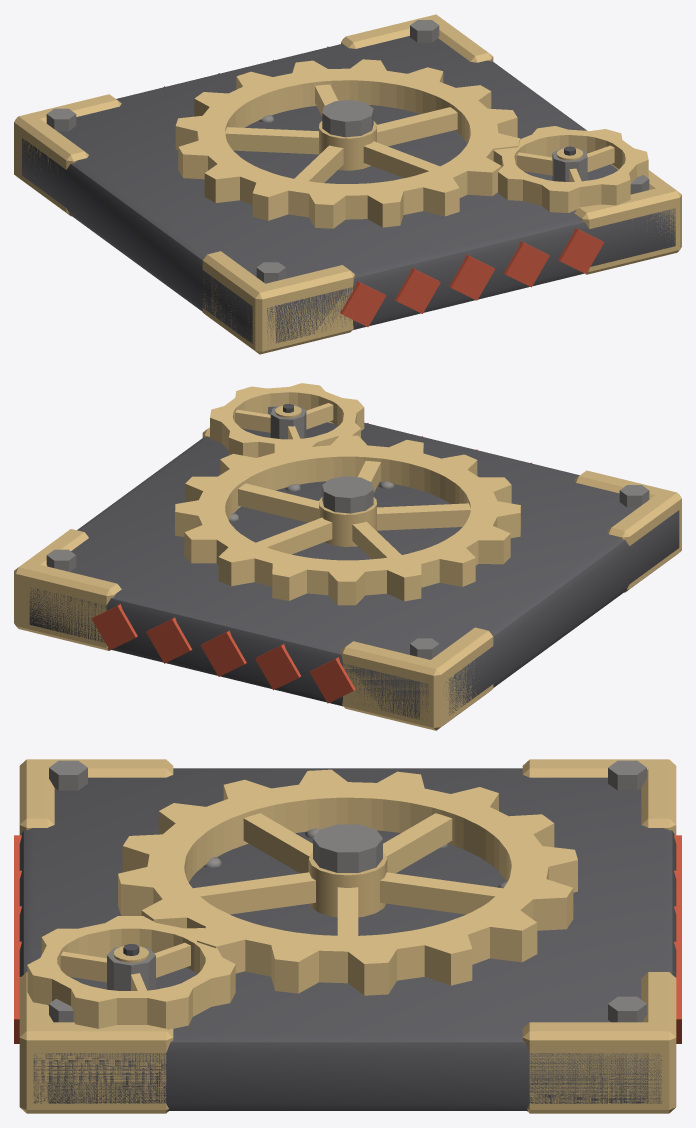
The model's file is block.glb.
3 views of the same model, one above another, from view 1: azimuth 30°, elevation 25°; view 2: azimuth 150°, elevation 25°; view 3: azimuth 270°, elevation 25° (orthographic). The views are drawn at different scales.
Parts seen in each view (by area): view 1: block, cog, cog_small; view 2: block, cog, cog_small; view 3: block, cog, cog_small.
Boxes of the visible parts, box(x1,y1,x2,y2) form: block: box(14, 14, 681, 354); cog: box(175, 59, 520, 228); cog_small: box(493, 126, 648, 212); block: box(14, 405, 681, 730); cog: box(175, 435, 520, 605); cog_small: box(210, 383, 364, 457); block: box(14, 759, 681, 1113); cog: box(118, 769, 577, 995); cog_small: box(27, 916, 235, 1029).
Size of the model in its own units: 0.94 by 0.22 by 0.956.
